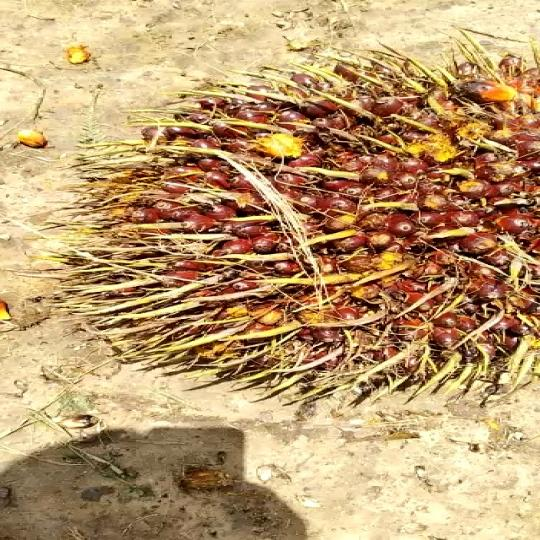masak: (0, 46, 540, 412)
